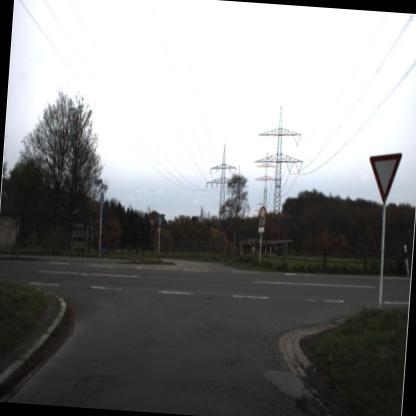other: (362, 139, 406, 206)
prohibitory: (258, 204, 268, 224)
